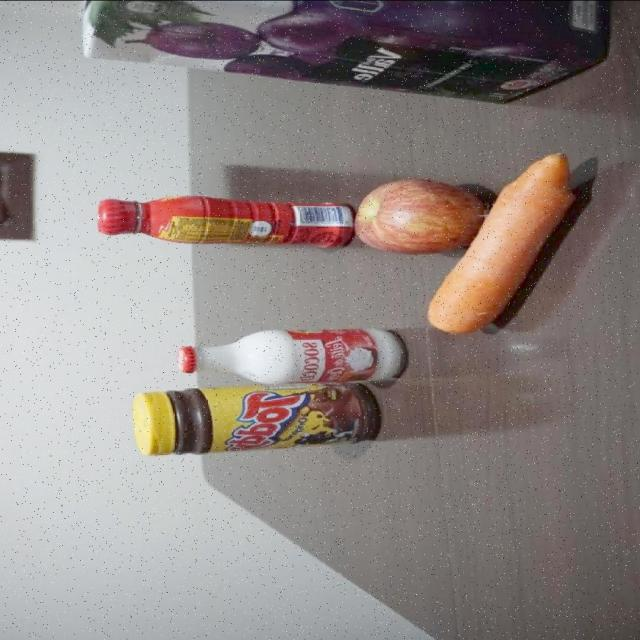Apple: (352, 180, 467, 254)
Carrot: (470, 152, 575, 334)
ChocolateMilk: (92, 195, 345, 248)
ChocolatePowder: (134, 385, 382, 455)
CoconutMilk: (178, 327, 405, 385)
